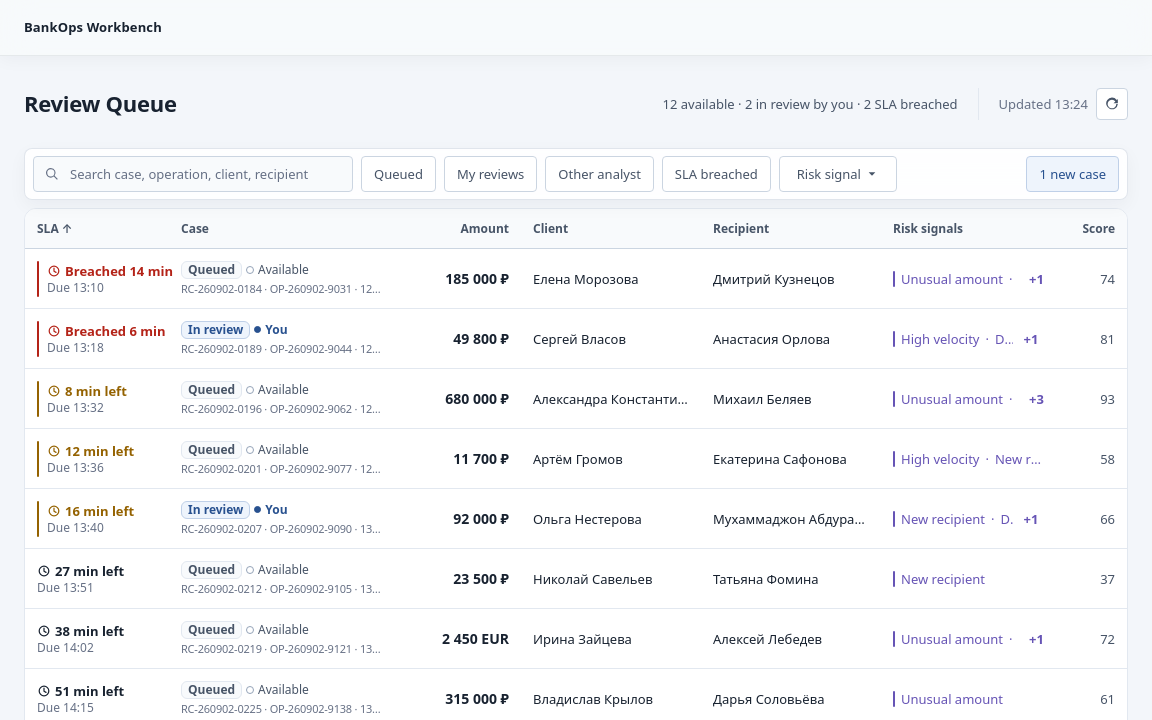
Test case: Review Queue › searches from the accessible input and Reset restores the dataset without losing unrelated URL params
Step 1. Type "ЕЛЕНА" into the search field named "Search review queue" → (193, 174), box [33, 156, 353, 192]
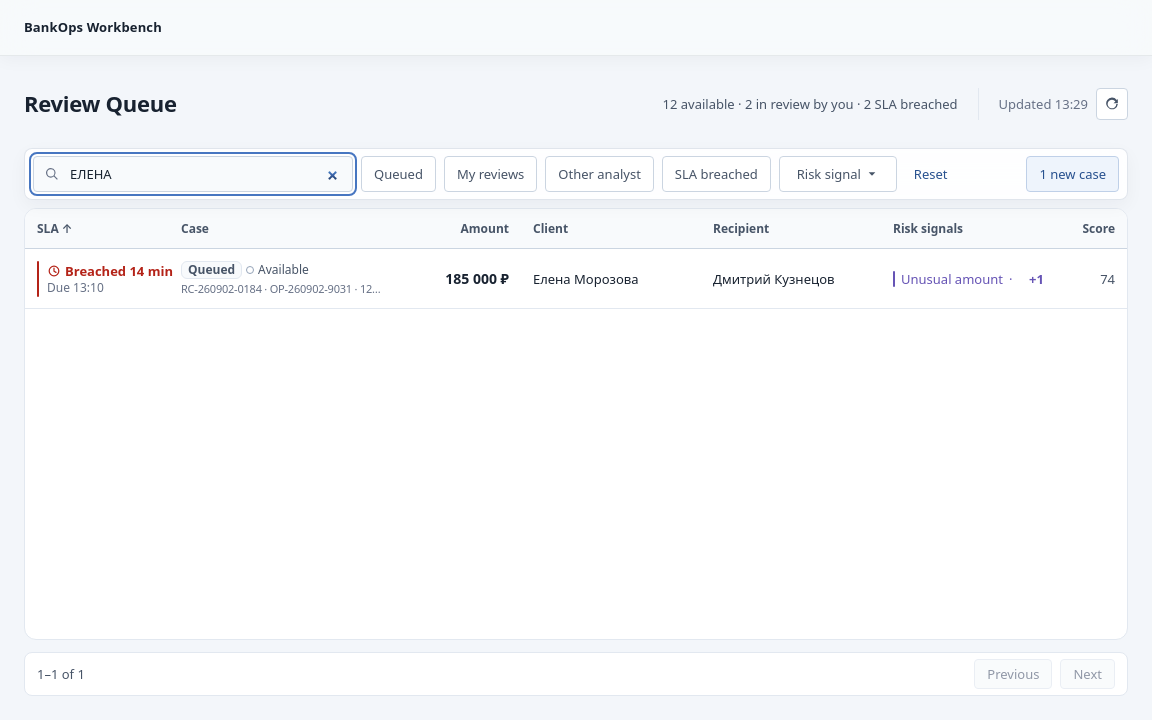
Expected: the text "1–1 of 1" is shown, [37, 664, 85, 684]
Step 2. Click the button "Reset" → (931, 174), box [905, 156, 956, 192]
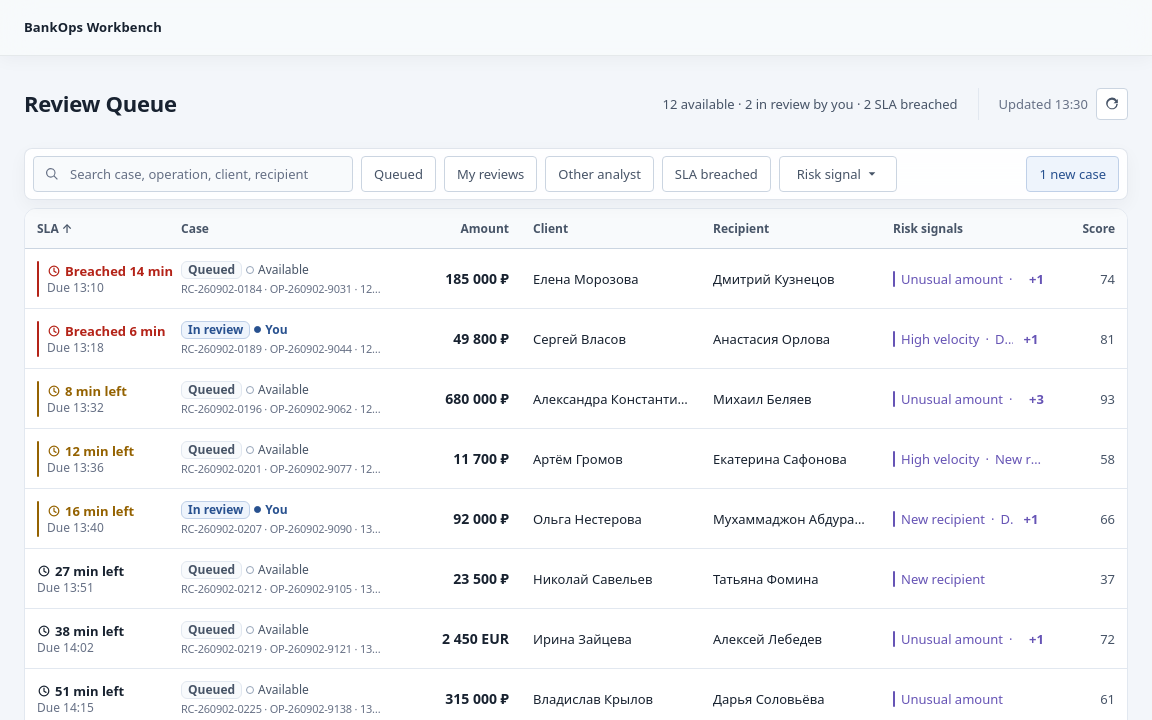
Expected: the search field is empty, [33, 156, 353, 192]
Expected: the button "Reset" is gone
